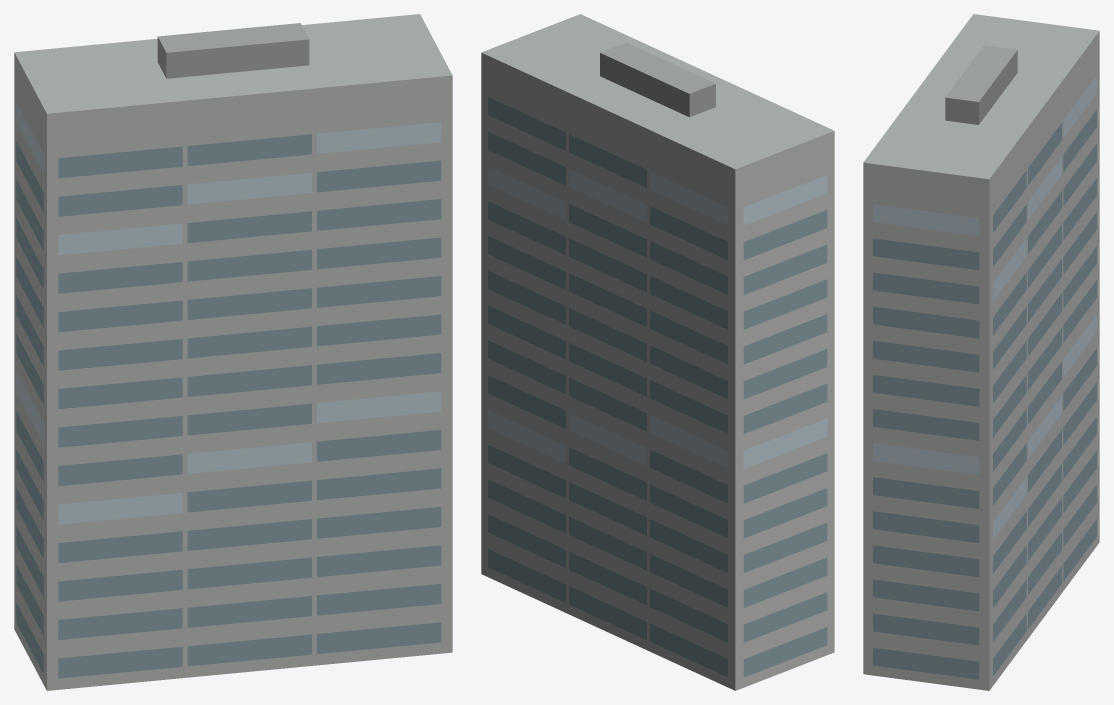
Rendered from fallback-olympic-park-foreon-428.glb.
3 renders of one model, left to right at view 1: azimuth 30°, elevation 25°; view 2: azimuth 150°, elevation 25°; view 3: azimuth 270°, elevation 25°, orthographic. The views are drawn at different scales.
Visible parts, largest first — view 1: fallback-olympic-park-foreon-428; view 2: fallback-olympic-park-foreon-428; view 3: fallback-olympic-park-foreon-428.
Part boxes in pixels (box(x1,y1,x2,y2)): fallback-olympic-park-foreon-428: box(14, 14, 452, 690); fallback-olympic-park-foreon-428: box(481, 14, 834, 690); fallback-olympic-park-foreon-428: box(863, 14, 1099, 690).
Size of the model in its own units: 31.7 by 47.81 by 19.16.
